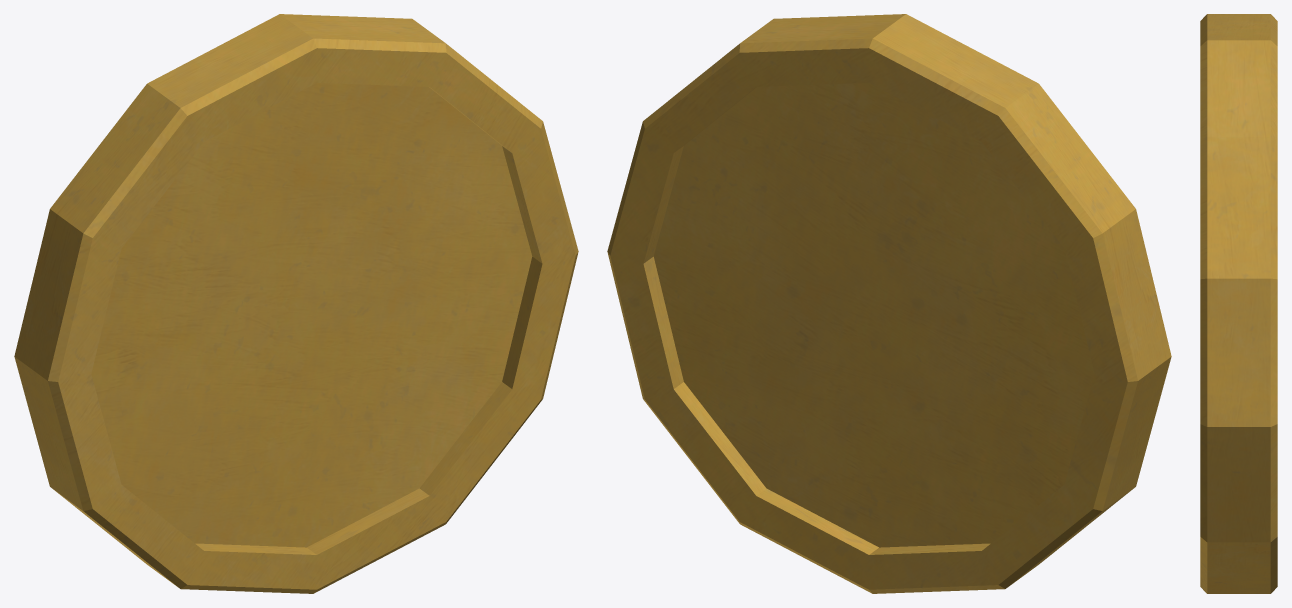
The model's file is CoinB.fbx.
The picture shows the model from 3 angles, left to right: view 1: azimuth 30°, elevation 25°; view 2: azimuth 150°, elevation 25°; view 3: azimuth 270°, elevation 25°; orthographic projection. The views are drawn at different scales.
Parts seen in each view (by area): view 1: Coin; view 2: Coin; view 3: Coin.
Boxes of the visible parts, bbox=[...] form: Coin: bbox=[14, 14, 578, 593]; Coin: bbox=[607, 14, 1171, 593]; Coin: bbox=[1200, 14, 1277, 593].
Bounding box in the file's own units: 150 × 150 × 20.
